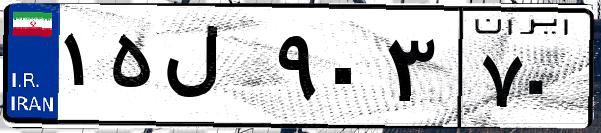0: (330, 28, 385, 110), (525, 38, 570, 115)
1: (57, 26, 110, 100)
3: (385, 28, 445, 110)
5: (110, 28, 158, 98)
7: (475, 38, 525, 113)
9: (270, 28, 330, 110)
ل: (158, 20, 270, 120)
